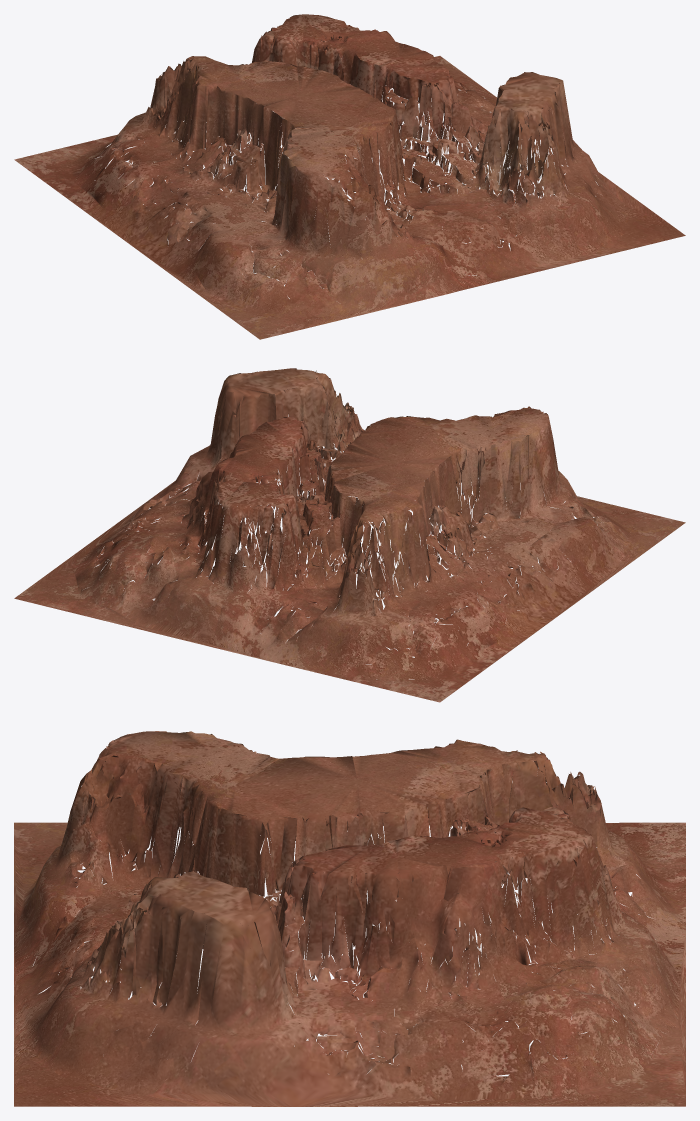
File: ap_modular_wadi_desert_rock4_lo.gltf
3 views of the same model, one above another, from view 1: azimuth 30°, elevation 25°; view 2: azimuth 150°, elevation 25°; view 3: azimuth 270°, elevation 25° (orthographic). The views are drawn at different scales.
Parts seen in each view (by area): view 1: ap_modular_wadi_desert_rock4; view 2: ap_modular_wadi_desert_rock4; view 3: ap_modular_wadi_desert_rock4.
Part boxes in pixels (left/top/right/bottom): ap_modular_wadi_desert_rock4: left=14, top=14, right=685, bottom=339; ap_modular_wadi_desert_rock4: left=14, top=368, right=685, bottom=702; ap_modular_wadi_desert_rock4: left=14, top=731, right=685, bottom=1106.
Bounding box in the file's own units: 23.88 × 6.04 × 23.88.
Materials: 1 (1 with a texture image).
